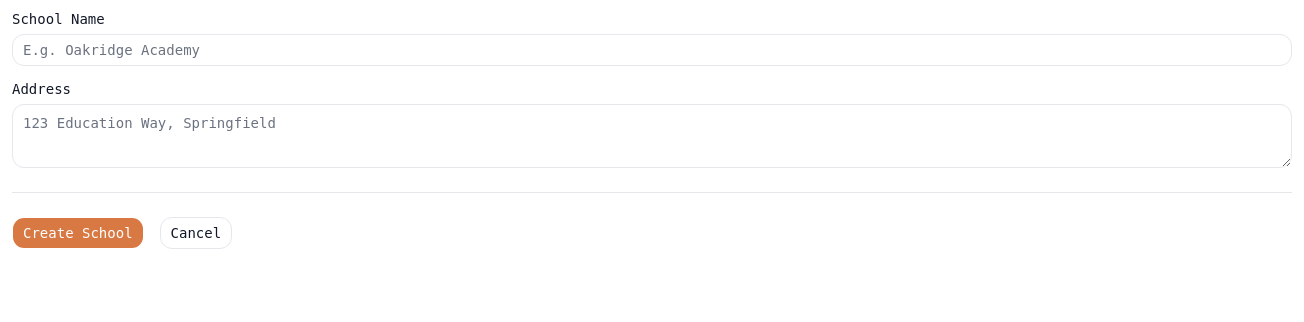
it: SchoolFormFeature › shows validation errors on empty submission
Click the button "Create School" at (78, 233), box [12,217,144,249]
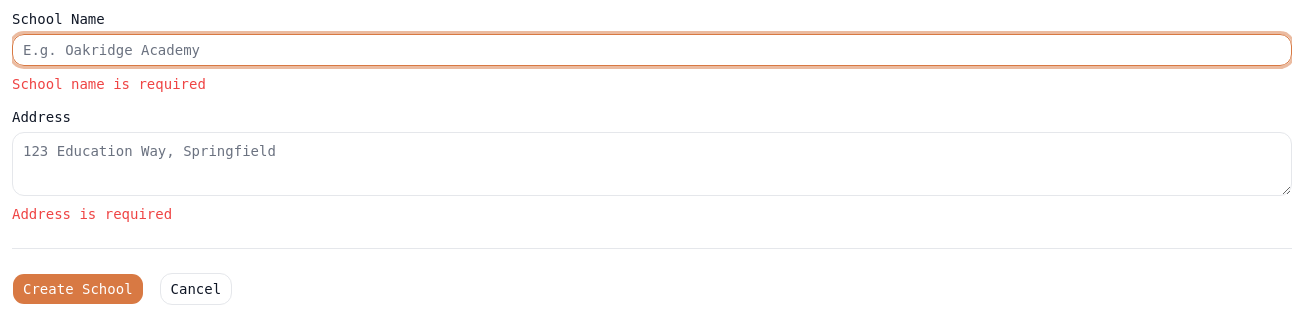
Now the text "School name is required" is shown, box [12,76,206,92]
Now the text "Address is required" is shown, box [12,206,172,222]
